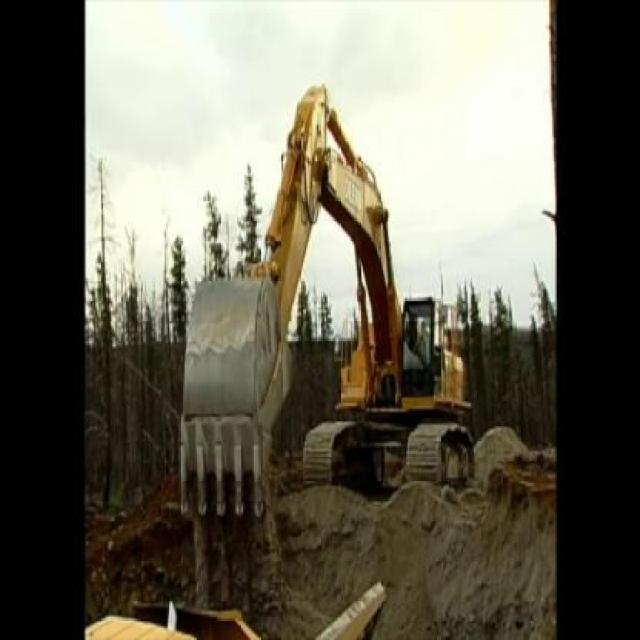excavator: (170, 69, 475, 513)
